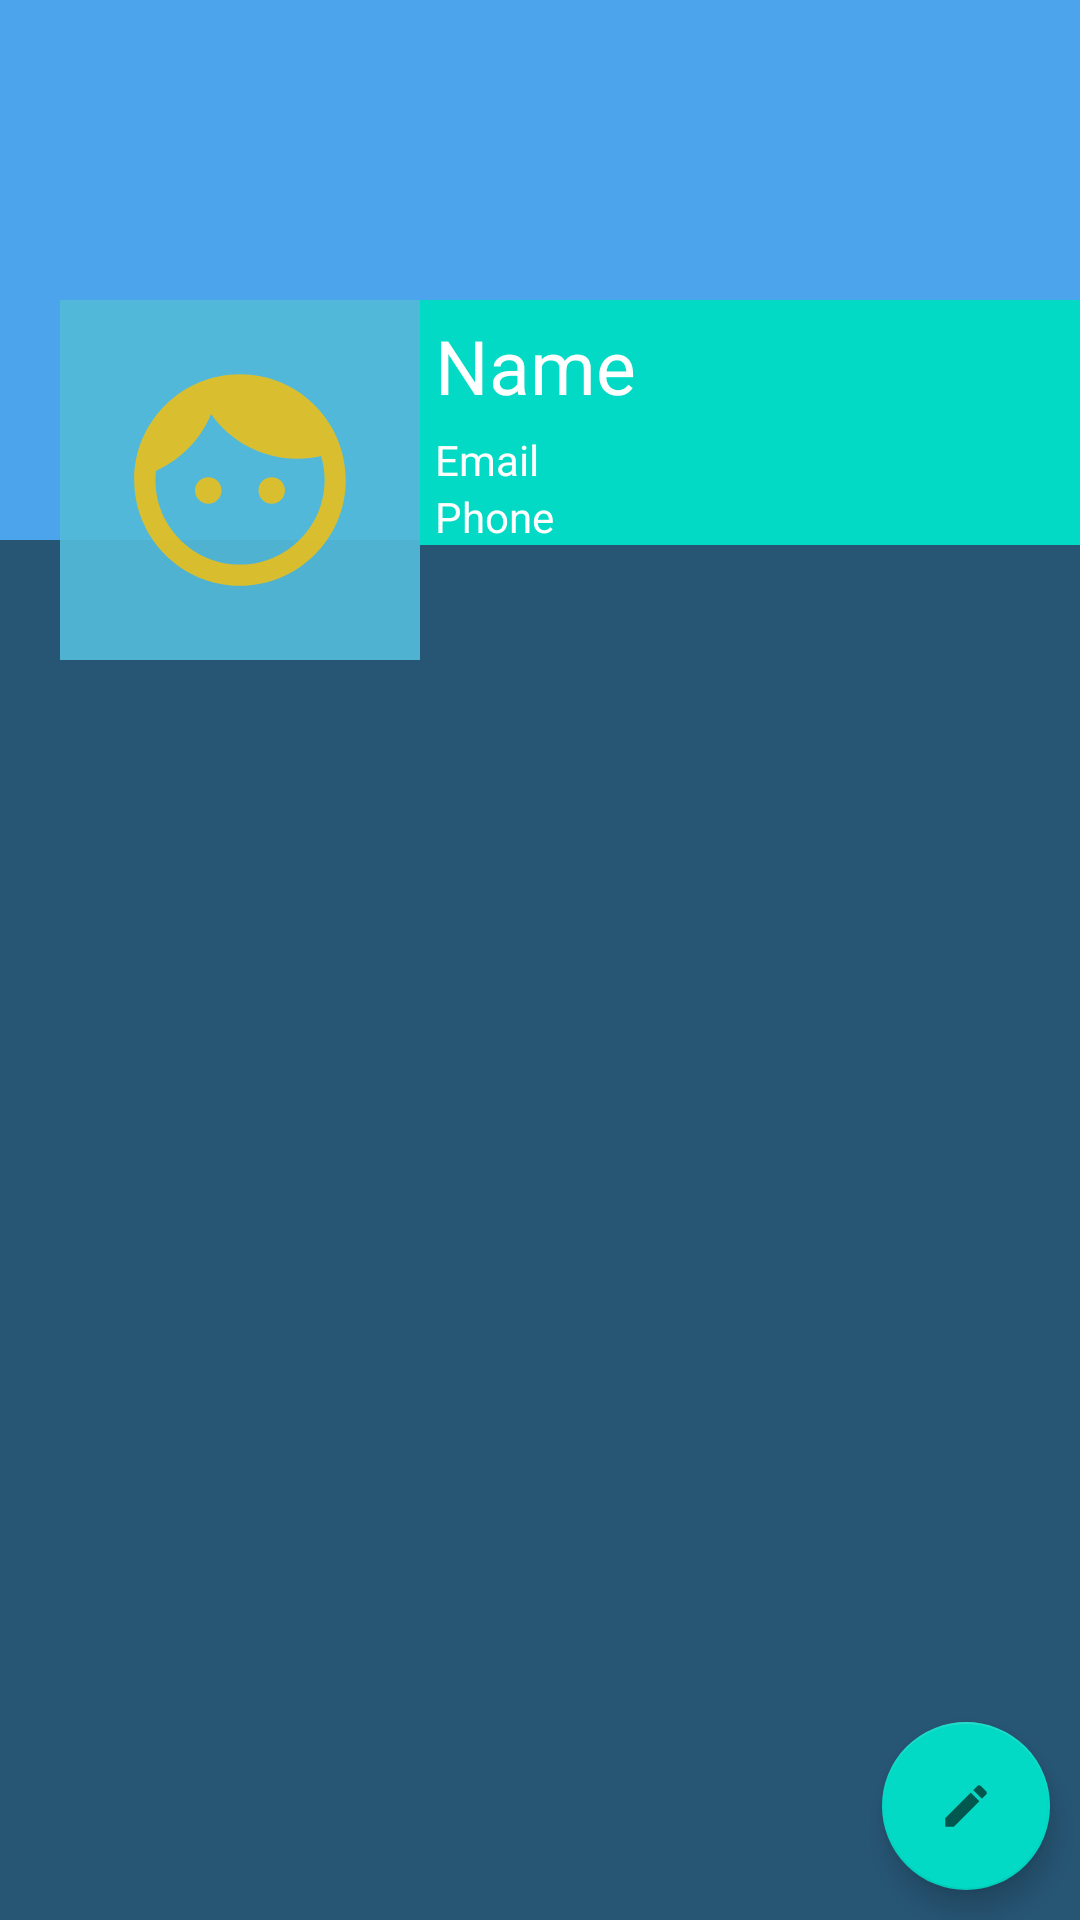

Where icons sit on this 1080*1920 app screen, as (x1, y1, x2, y2):
edit: (882, 1722, 1050, 1890)
